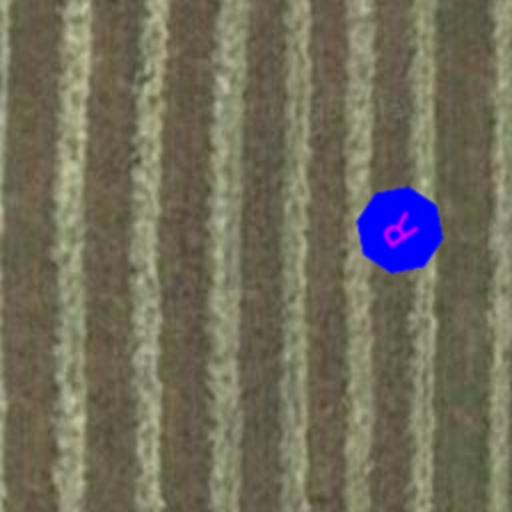octagon: (338, 168, 462, 292)
